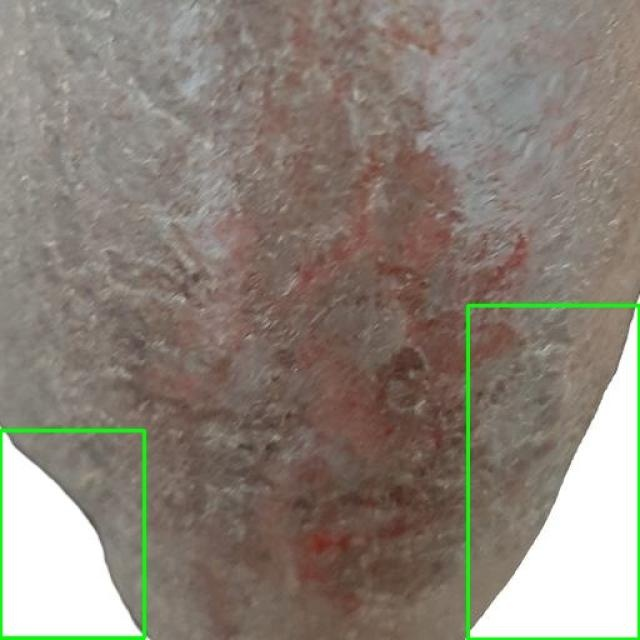Contact Dermatitis: (468, 305, 639, 639), (0, 431, 145, 639)
